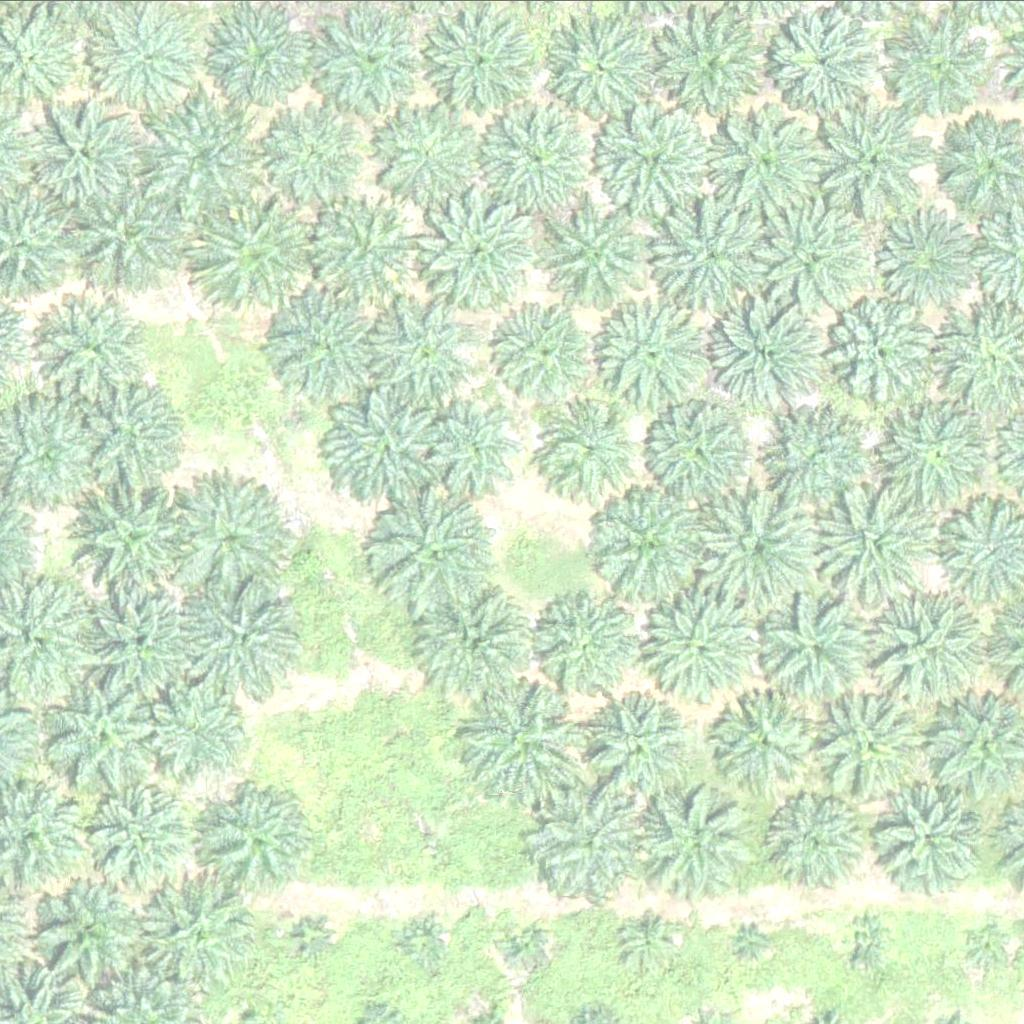Kelapa_Sawit: (21, 876, 147, 1001), (45, 675, 171, 800), (181, 575, 307, 700), (66, 476, 192, 601), (170, 472, 296, 597), (324, 385, 450, 510), (377, 491, 503, 616), (462, 674, 588, 799), (695, 484, 821, 609), (585, 482, 711, 607), (863, 587, 989, 712), (811, 480, 937, 605), (199, 192, 324, 317), (82, 786, 196, 899), (144, 673, 258, 786), (416, 584, 530, 697), (201, 782, 314, 895), (74, 381, 187, 494), (31, 94, 144, 207), (422, 8, 535, 121), (418, 190, 531, 303), (545, 193, 658, 306), (658, 199, 771, 312), (592, 300, 705, 413), (766, 200, 879, 313), (709, 106, 822, 219), (643, 594, 756, 707), (760, 595, 873, 708), (824, 102, 937, 215), (869, 206, 982, 319), (714, 300, 828, 412), (815, 686, 929, 798), (149, 876, 262, 988), (89, 590, 202, 702), (37, 291, 150, 403), (67, 180, 180, 292), (154, 98, 267, 210), (543, 13, 656, 125), (661, 6, 774, 118), (370, 100, 483, 212), (480, 99, 593, 211), (596, 101, 709, 213), (774, 3, 887, 115), (535, 786, 648, 898), (641, 777, 754, 889), (891, 11, 1004, 123), (827, 292, 940, 404), (881, 397, 994, 509), (96, 3, 197, 103), (320, 8, 421, 108), (263, 105, 364, 205), (313, 199, 414, 299), (275, 289, 376, 389), (373, 301, 474, 401), (494, 305, 595, 405), (426, 399, 527, 499), (585, 696, 686, 796), (713, 690, 814, 790), (541, 401, 641, 501), (650, 403, 750, 503), (773, 418, 873, 518), (534, 597, 634, 697), (879, 785, 979, 885), (775, 793, 863, 880), (624, 916, 675, 966), (842, 911, 892, 961), (497, 916, 547, 966), (287, 913, 337, 963), (398, 917, 448, 967), (961, 922, 1011, 972), (742, 929, 767, 954)
